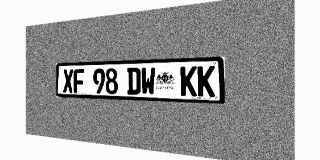8: (105, 68, 118, 94)
9: (93, 68, 105, 94)
D: (127, 68, 141, 95)
F: (74, 69, 84, 93)
K: (197, 66, 215, 97), (180, 66, 197, 96)
W: (141, 67, 155, 95)
X: (63, 69, 73, 93)
